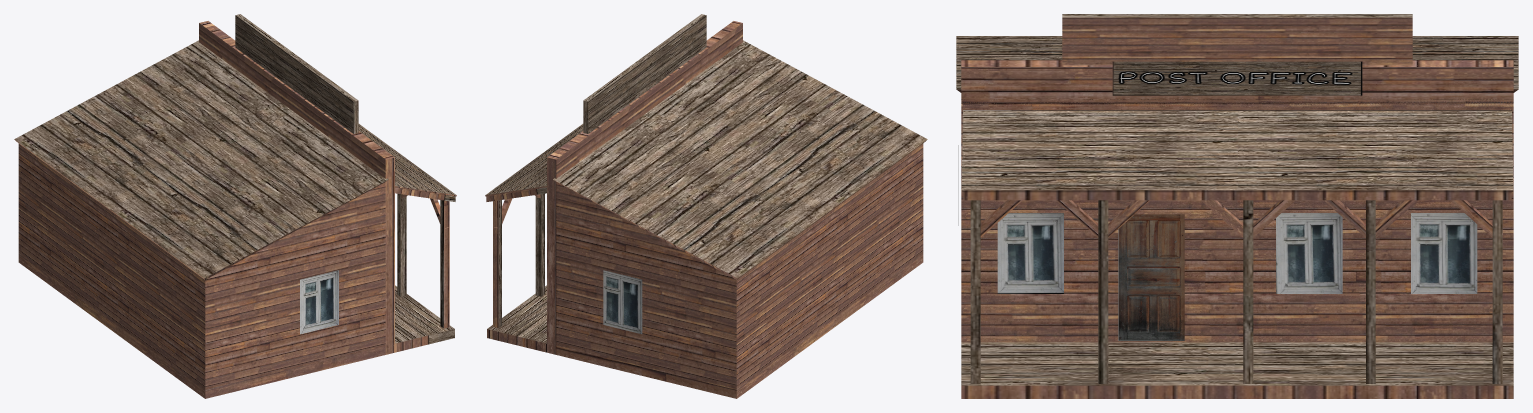
File: postoffice.fbx
3 renders of one model, left to right at view 1: azimuth 30°, elevation 25°; view 2: azimuth 150°, elevation 25°; view 3: azimuth 270°, elevation 25°, orthographic. The views are drawn at different scales.
Parts seen in each view (by area): view 1: Plane.005; view 2: Plane.005; view 3: Plane.005.
Boxes of the visible parts, <box> form: Plane.005: <box>14,14,456,398</box>; Plane.005: <box>485,14,927,398</box>; Plane.005: <box>956,14,1518,398</box>.
Size of the model in its own units: 282 by 241 by 365.
1 material, 1 textured.
